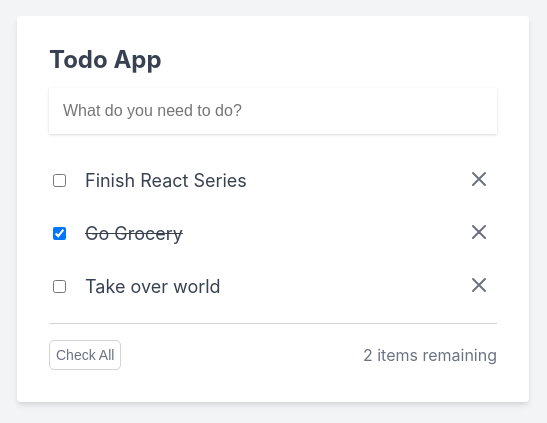
can delete a todo
Expected: the text "Finish React Series" is shown, [85,172,247,190]
Click the button without text in the row of "Finish React Series".
click(479, 180)  # box [461,166,497,195]
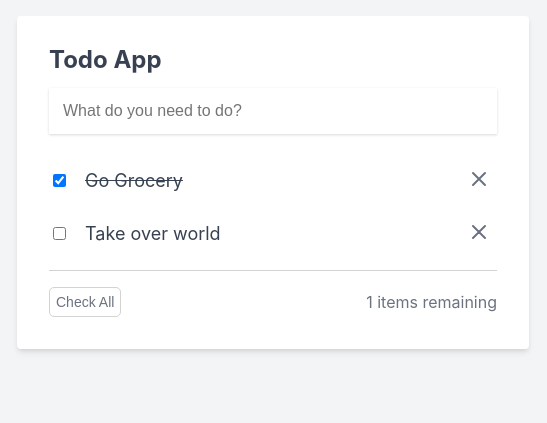
Expected: the text "Finish React Series" is gone
